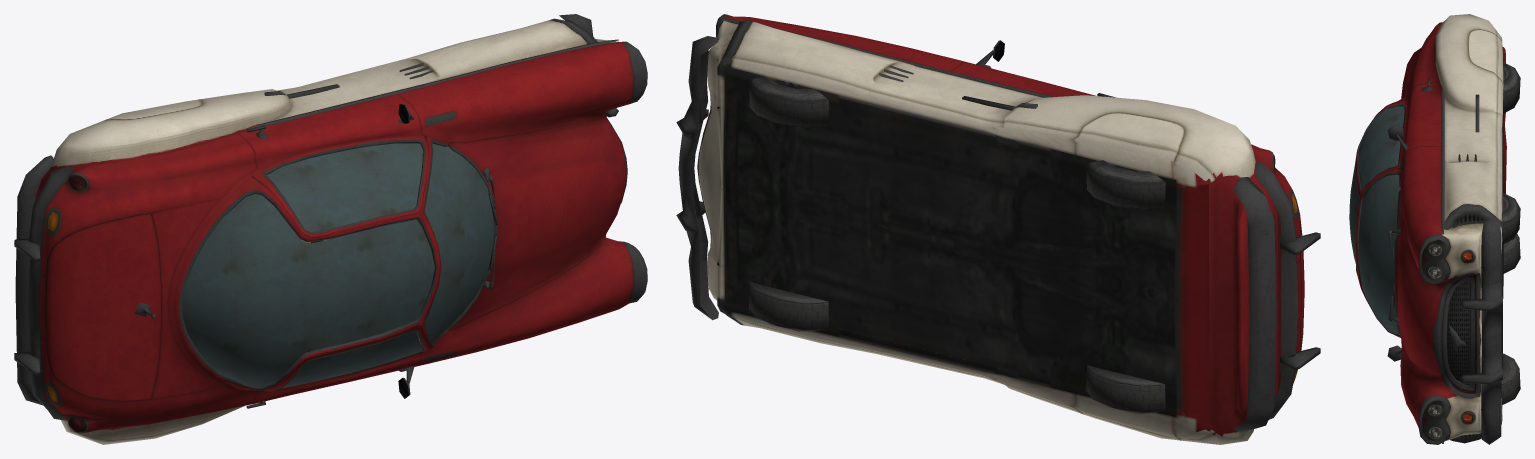
The model's file is veh_t6_nuketown_2020_car02_clean_LOD1.obj.
3 renders of one model, left to right at view 1: azimuth 30°, elevation 25°; view 2: azimuth 150°, elevation 25°; view 3: azimuth 270°, elevation 25°, orthographic. The views are drawn at different scales.
Parts seen in each view (by area): view 1: mtl_nt_2020_car_02_exterior, mtl_nt_2020_car_01_glass_out, mtl_nt_2020_car_01_glass_in; view 2: mtl_nt_2020_car_02_exterior; view 3: mtl_nt_2020_car_02_exterior, mtl_nt_2020_car_01_glass_out, mtl_nt_2020_car_01_glass_in.
Boxes of the visible parts, left/top/right/bottom form: mtl_nt_2020_car_02_exterior: left=14, top=14, right=647, bottom=444; mtl_nt_2020_car_01_glass_out: left=182, top=143, right=494, bottom=388; mtl_nt_2020_car_01_glass_in: left=182, top=143, right=493, bottom=388; mtl_nt_2020_car_02_exterior: left=676, top=14, right=1320, bottom=444; mtl_nt_2020_car_02_exterior: left=1355, top=14, right=1520, bottom=444; mtl_nt_2020_car_01_glass_out: left=1349, top=106, right=1404, bottom=334; mtl_nt_2020_car_01_glass_in: left=1350, top=106, right=1404, bottom=328.
Size of the model in its own units: 504 by 246 by 154.
